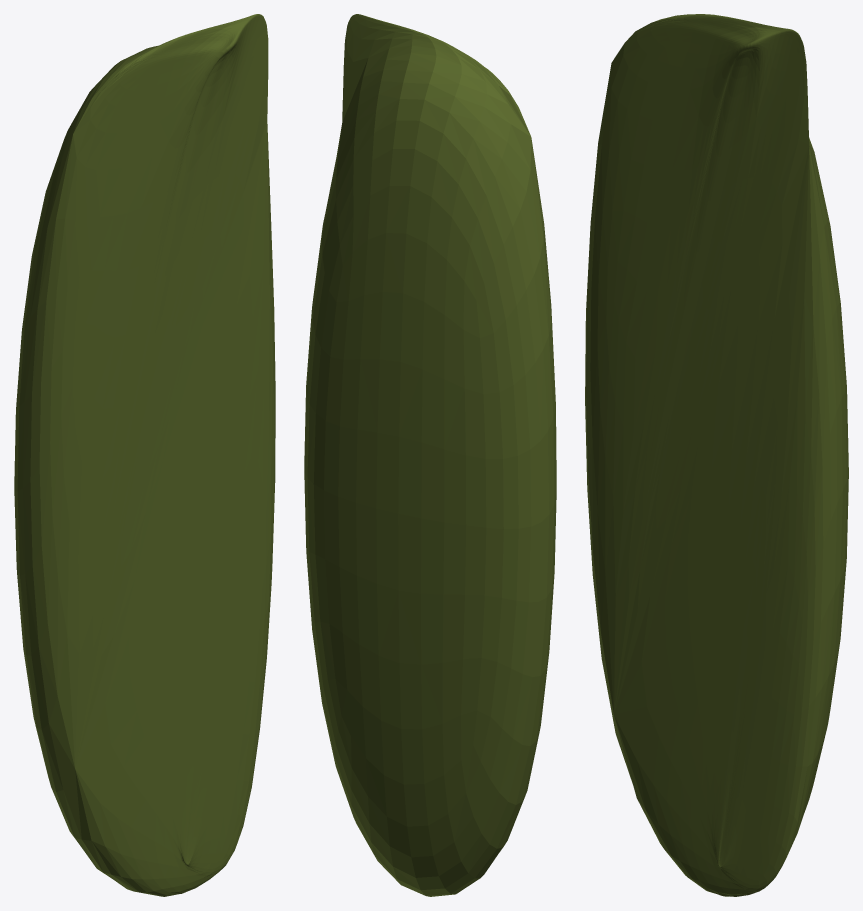
The picture shows the model from 3 angles, left to right: view 1: azimuth 30°, elevation 25°; view 2: azimuth 150°, elevation 25°; view 3: azimuth 330°, elevation 25°; orthographic projection. The views are drawn at different scales.
Visible parts, largest first — view 1: 377_Cube.1536; view 2: 377_Cube.1536; view 3: 377_Cube.1536.
Part boxes in pixels (left/top/right/bottom): 377_Cube.1536: left=14, top=14, right=275, bottom=896; 377_Cube.1536: left=304, top=14, right=556, bottom=896; 377_Cube.1536: left=585, top=14, right=848, bottom=896.
Size of the model in its own units: 3.45 by 11.53 by 1.51.
